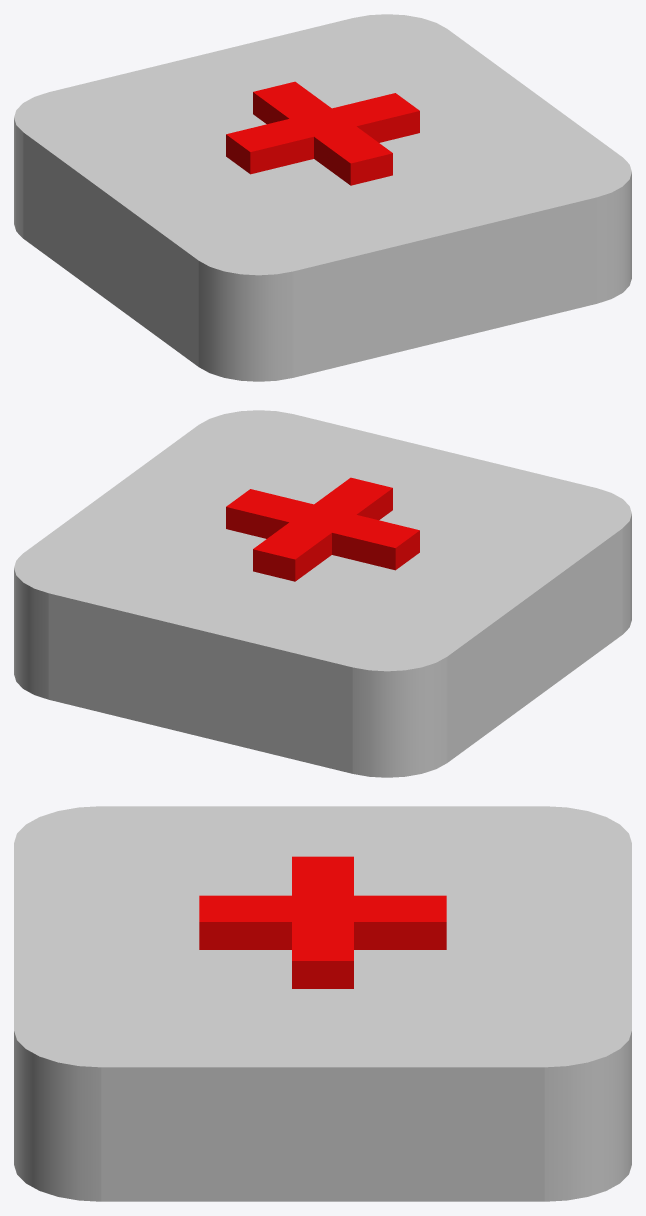
File: HealthKit.dae
The picture shows the model from 3 angles, top to bottom: view 1: azimuth 30°, elevation 25°; view 2: azimuth 150°, elevation 25°; view 3: azimuth 270°, elevation 25°; orthographic projection. The views are drawn at different scales.
Visible parts, largest first — view 1: SketchUp (×2); view 2: SketchUp (×2); view 3: SketchUp (×2).
Part boxes in pixels (left/top/right/bottom): SketchUp (×2): left=14, top=14, right=631, bottom=381; SketchUp (×2): left=14, top=410, right=631, bottom=777; SketchUp (×2): left=14, top=806, right=631, bottom=1201.
Bounding box in the file's own units: 39.37 × 39.37 × 11.42.
